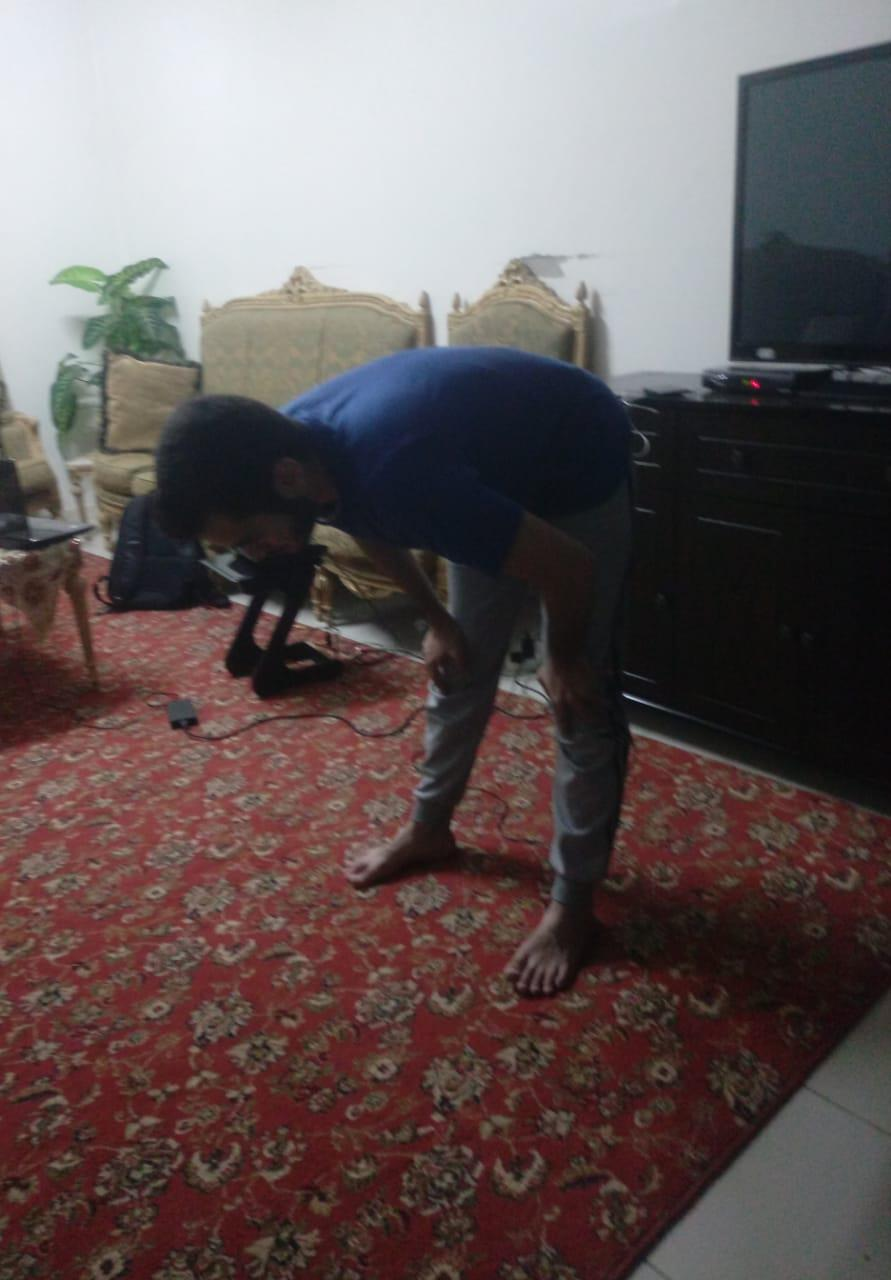ruku: (150, 345, 644, 999)
